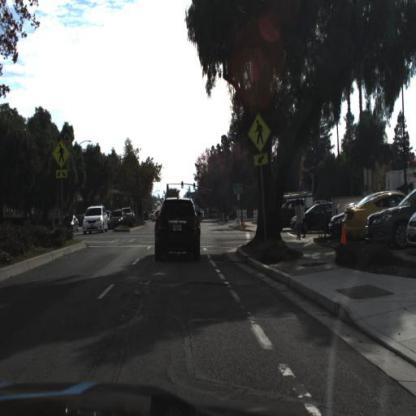car: (152, 192, 204, 269), (342, 192, 409, 246), (342, 192, 384, 242), (291, 200, 333, 240), (81, 204, 109, 238), (38, 216, 64, 237), (109, 208, 126, 229), (66, 210, 80, 234)
pedestrian: (294, 196, 304, 243), (294, 198, 303, 242), (301, 201, 308, 239)
